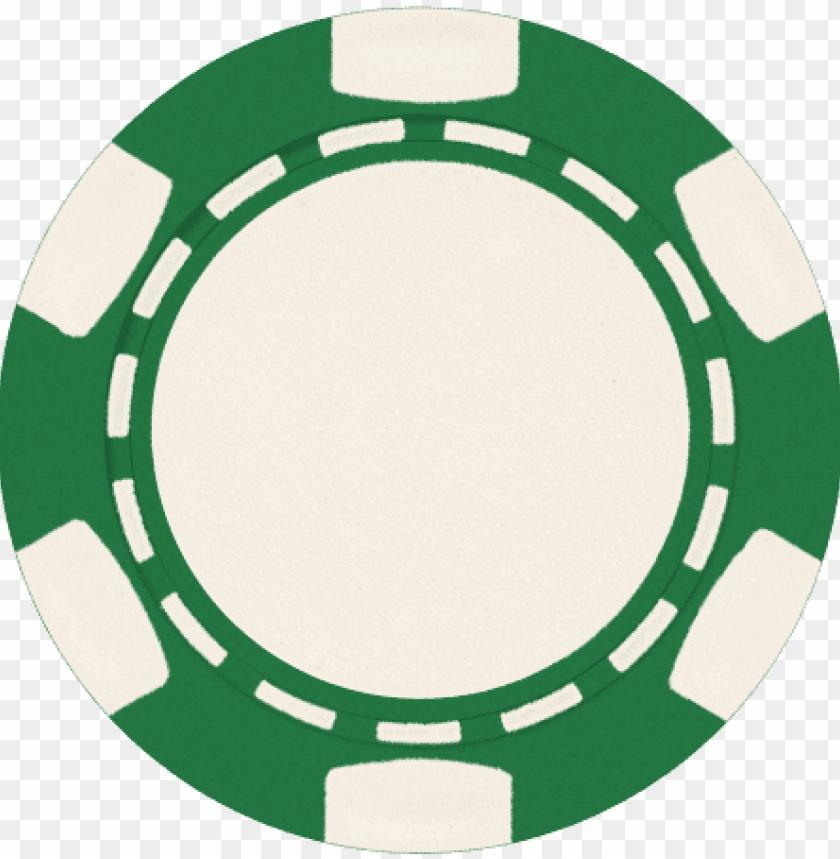chip-green: (2, 10, 837, 850)
